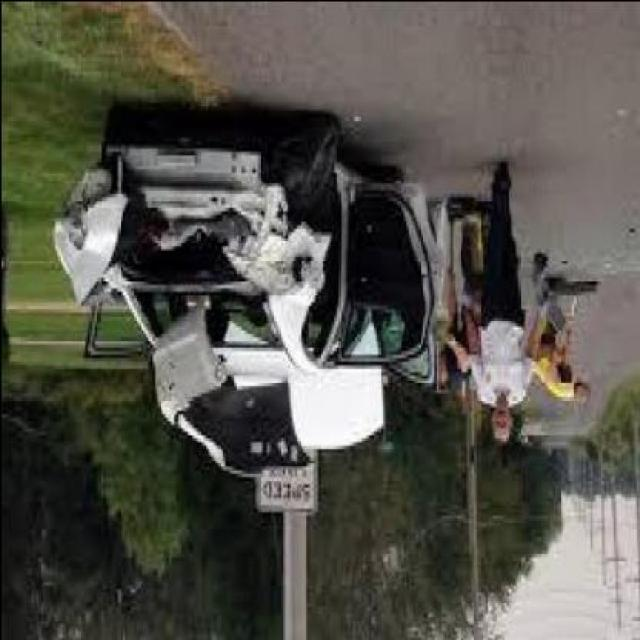damage: (47, 136, 346, 475)
